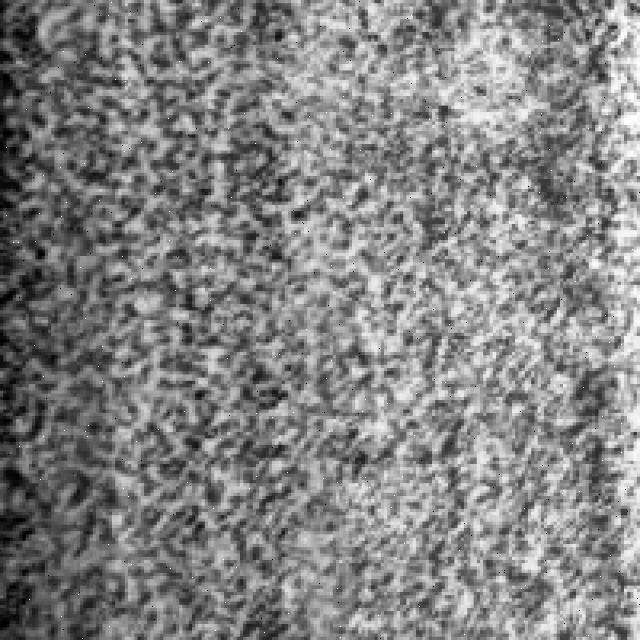Rolled_in_Scale: (12, 6, 388, 628)
